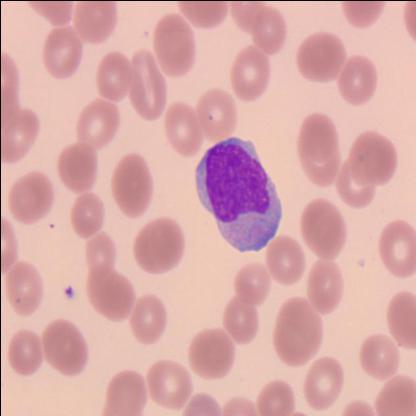Promyelocyte: (192, 136, 279, 252)
